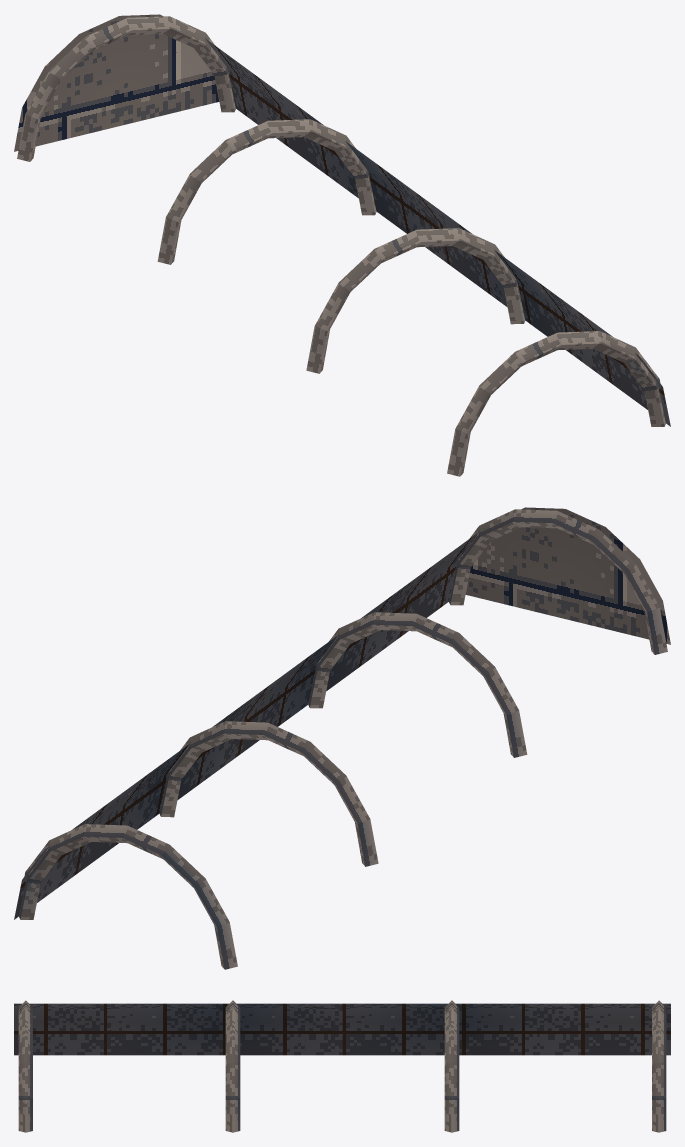
Rendered from dgn.ceiling__vault_1x3.glb.
3 views of the same model, one above another, from view 1: azimuth 30°, elevation 25°; view 2: azimuth 150°, elevation 25°; view 3: azimuth 270°, elevation 25° (orthographic). The views are drawn at different scales.
Parts seen in each view (by area): view 1: kit_ribs, kit_shell_vault, kit_shell_tympana; view 2: kit_ribs, kit_shell_vault, kit_shell_tympana; view 3: kit_shell_vault, kit_ribs.
Boxes of the visible parts, x1,y1,x2,y2 form: kit_ribs: (17, 16, 665, 476); kit_shell_vault: (205, 38, 670, 426); kit_shell_tympana: (14, 14, 219, 151); kit_ribs: (19, 509, 667, 969); kit_shell_vault: (14, 531, 479, 919); kit_shell_tympana: (465, 507, 670, 644); kit_shell_vault: (14, 1003, 670, 1055); kit_ribs: (18, 1000, 666, 1132).
Size of the model in its own units: 3.15 by 1.6 by 11.
Materials: 3 (3 with a texture image).
